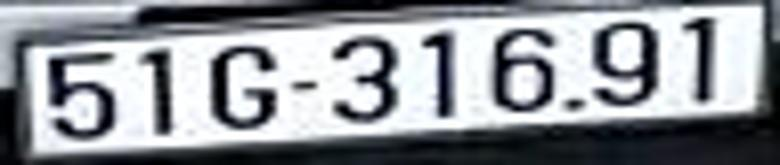-: (285, 74, 324, 93)
.: (564, 95, 586, 115)
1: (137, 44, 180, 141), (416, 29, 461, 118), (684, 14, 719, 102)
3: (329, 32, 400, 125)
5: (46, 49, 118, 141)
6: (489, 24, 557, 117)
9: (590, 17, 663, 111)
G: (206, 42, 279, 134)
